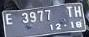clone-license-plate: (0, 3, 86, 36)
